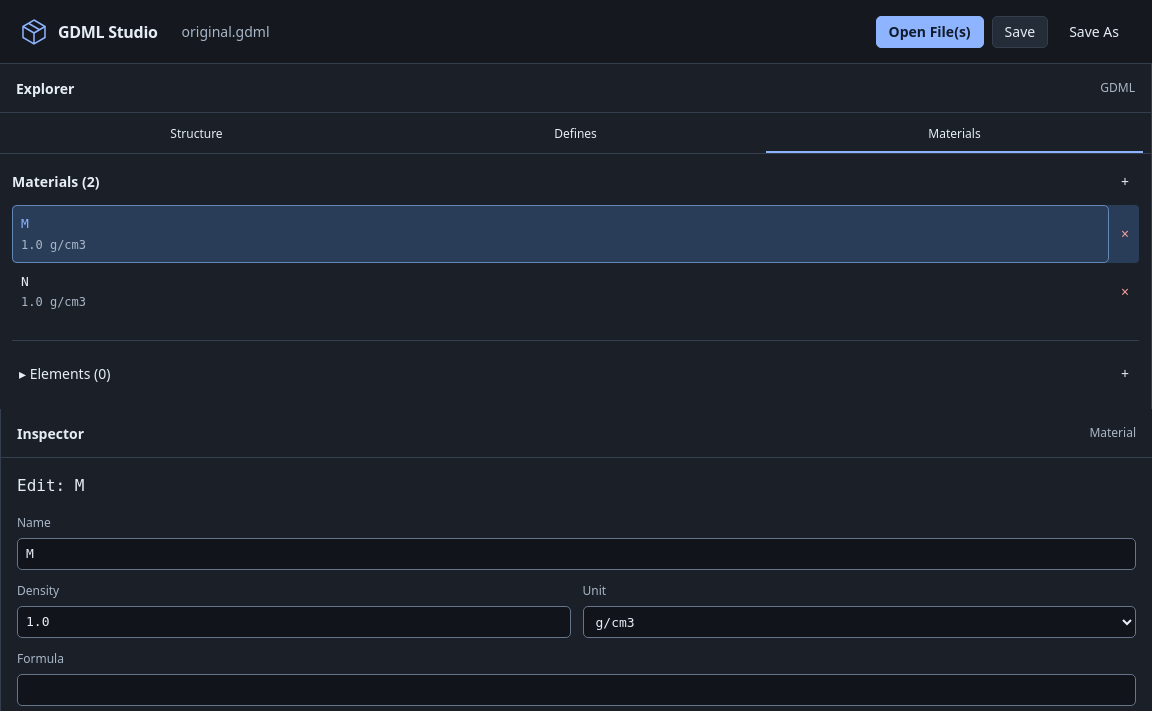
material drafts and document actions › reaches element suggestions from the keyboard and adds only complete elements
Click the button named "Add element": (1125, 373) [1111,358,1139,388]
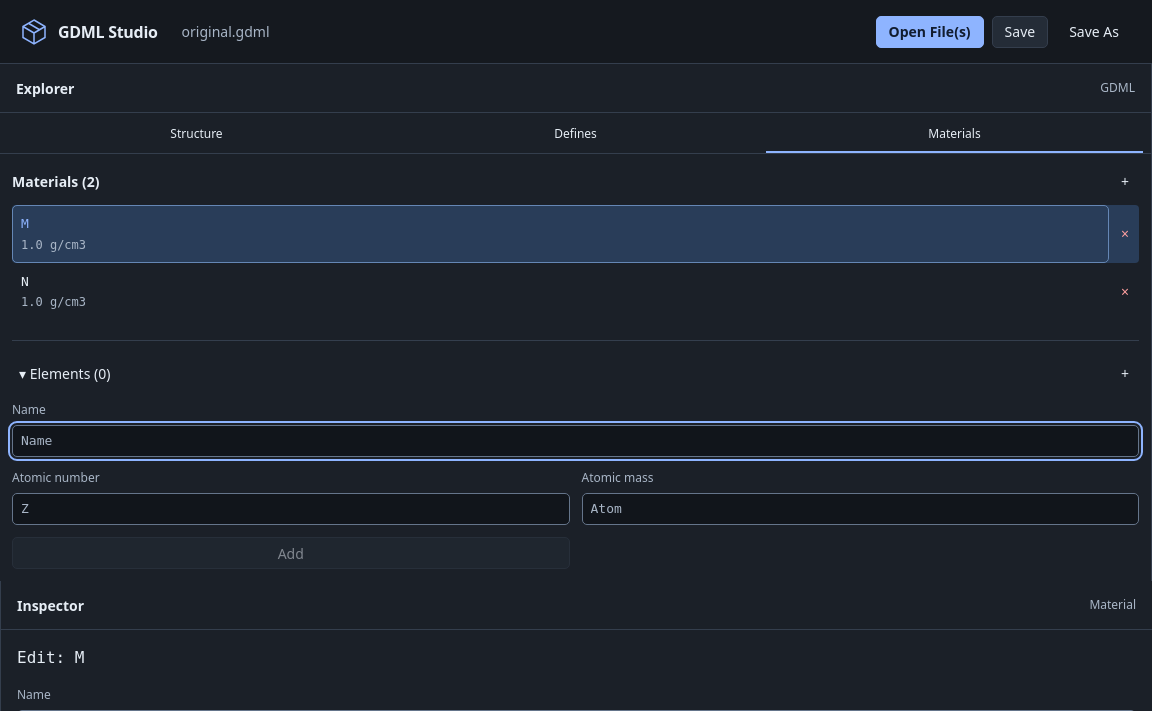
In the field with placeholder "Name" below "Materials (": (576, 441) [12,425,1139,457], type "Cat"
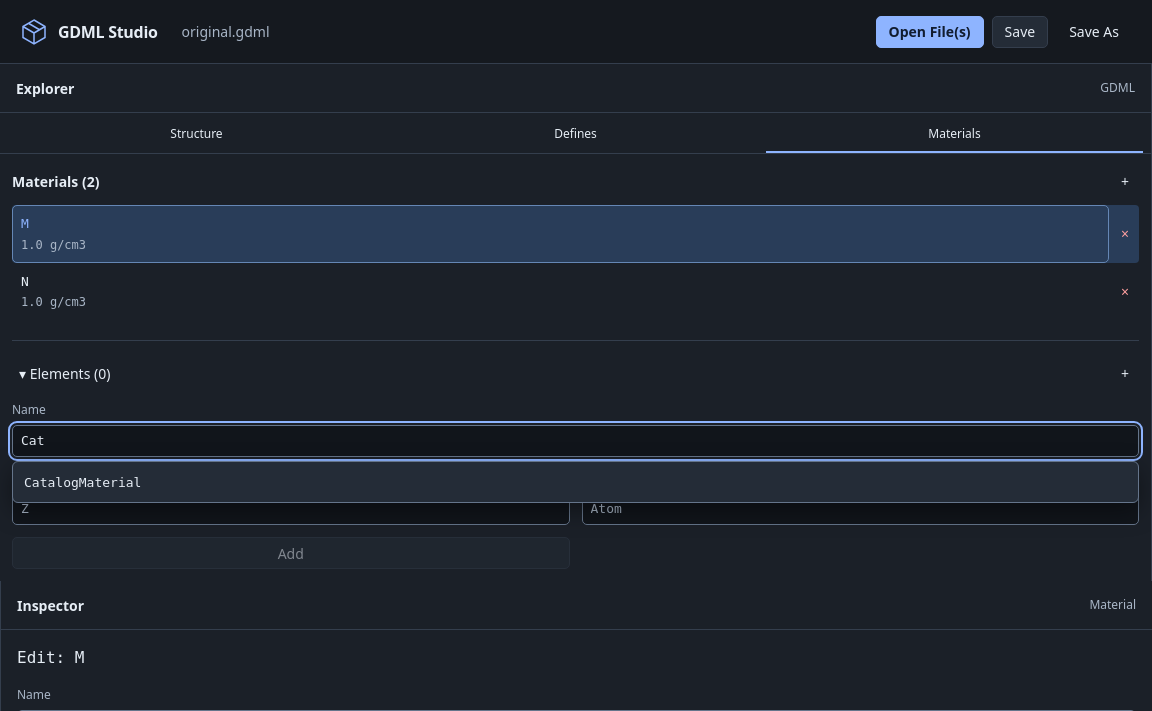
Check: the button "CatalogMaterial" is shown, box [17,466,1134,498]
Press Tab
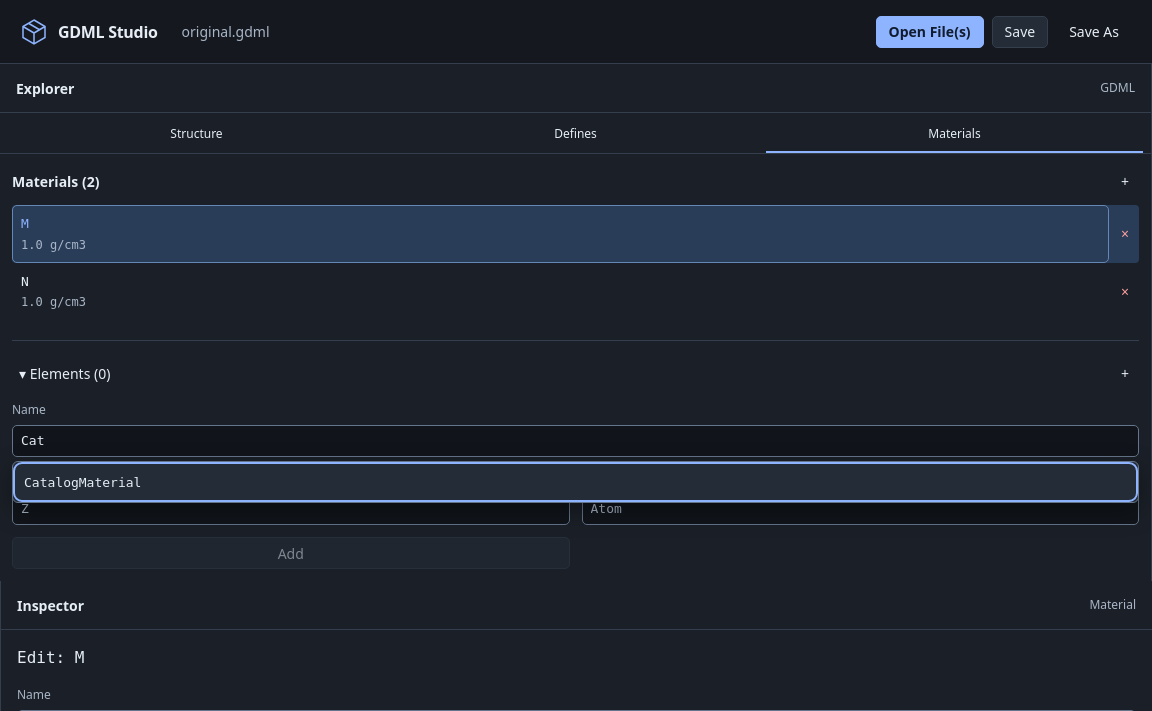
Press Enter
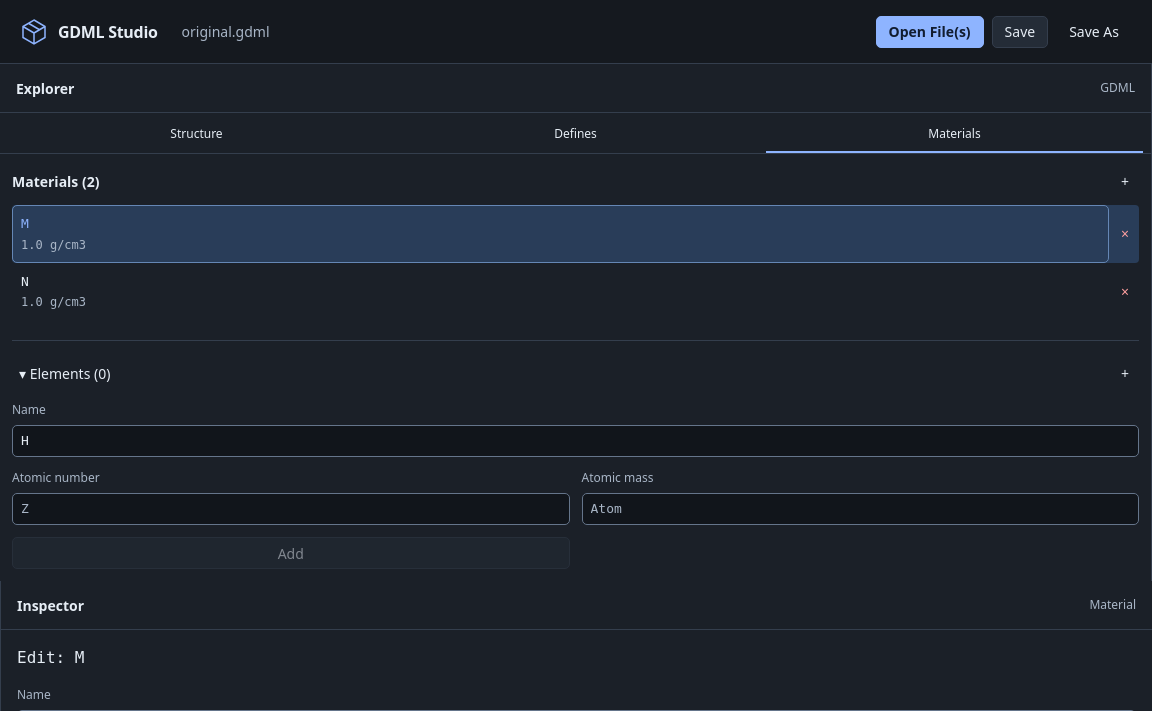
Check: the button "Add" is disabled, box [12,537,570,569]
Check: the field with placeholder "Name" below "Materials (" holds "H", box [12,425,1139,457]
In the field with placeholder "Z": (291, 509) [12,493,570,525], type "1"
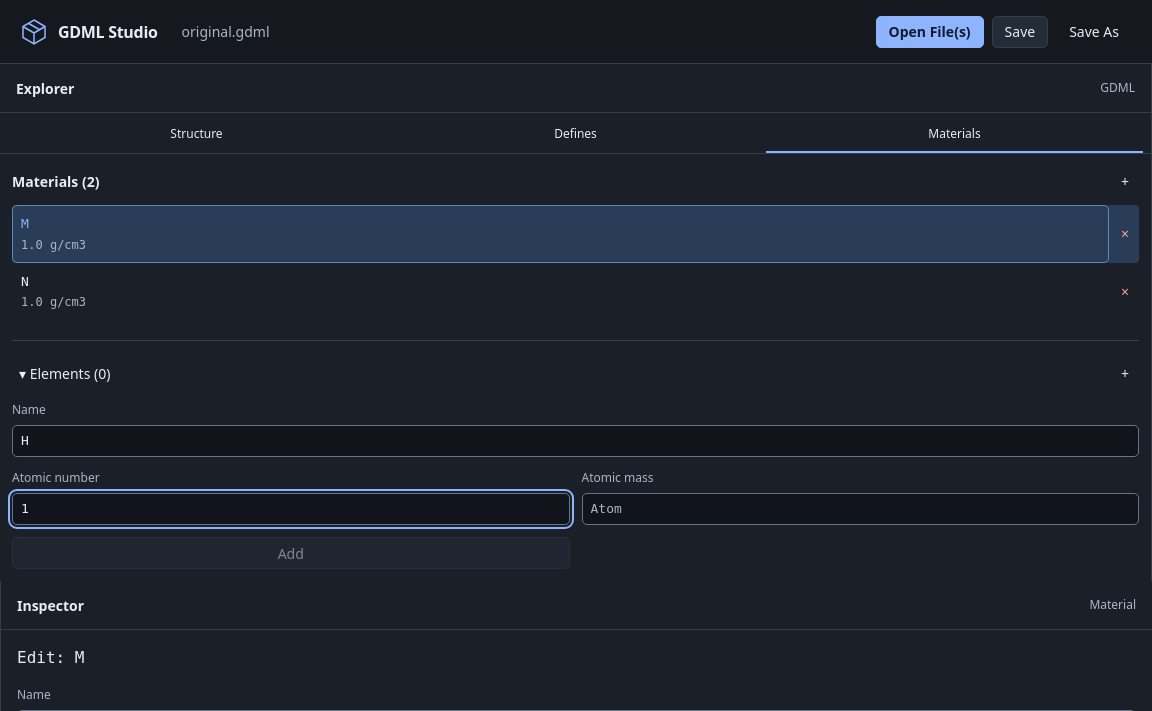
In the field with placeholder "Atom": (860, 509) [582,493,1139,525], type "1.008"
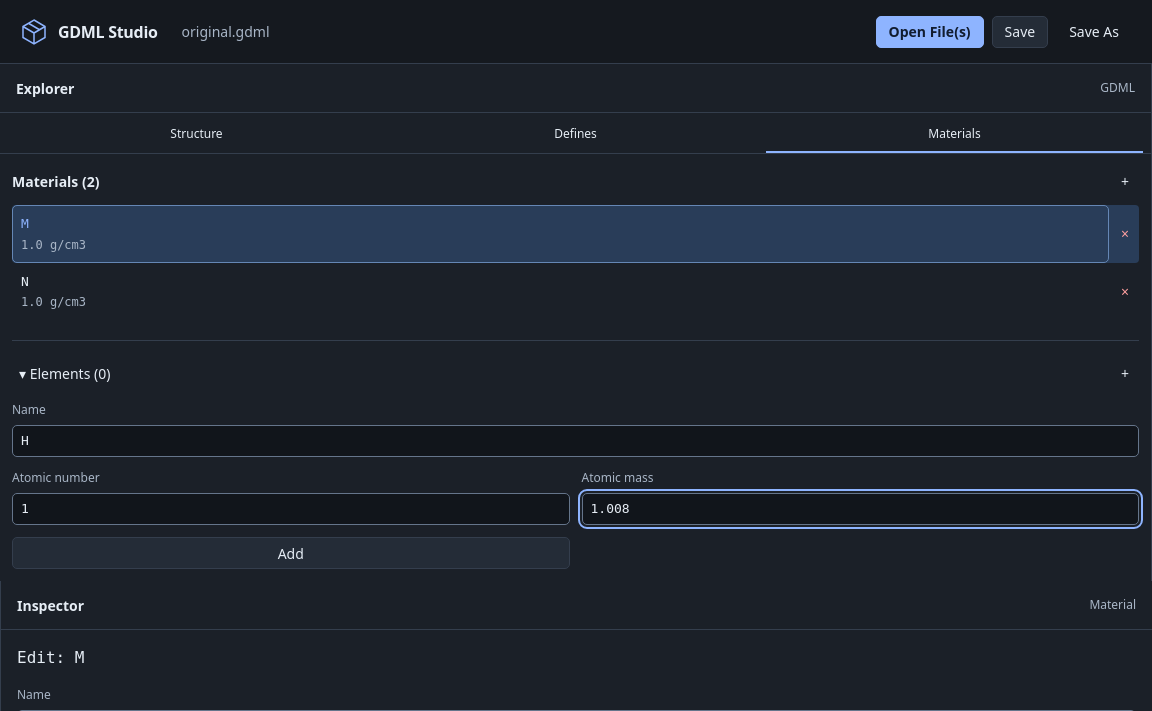
Check: the button "Add" is enabled, box [12,537,570,569]
